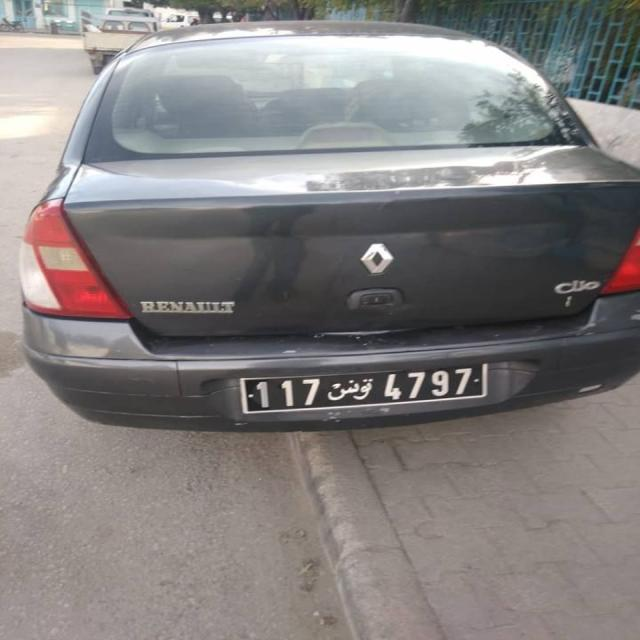LP: (236, 362, 489, 416)
